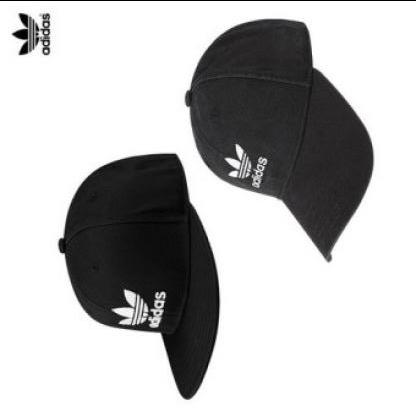cap: (185, 14, 375, 262), (51, 141, 221, 412)
